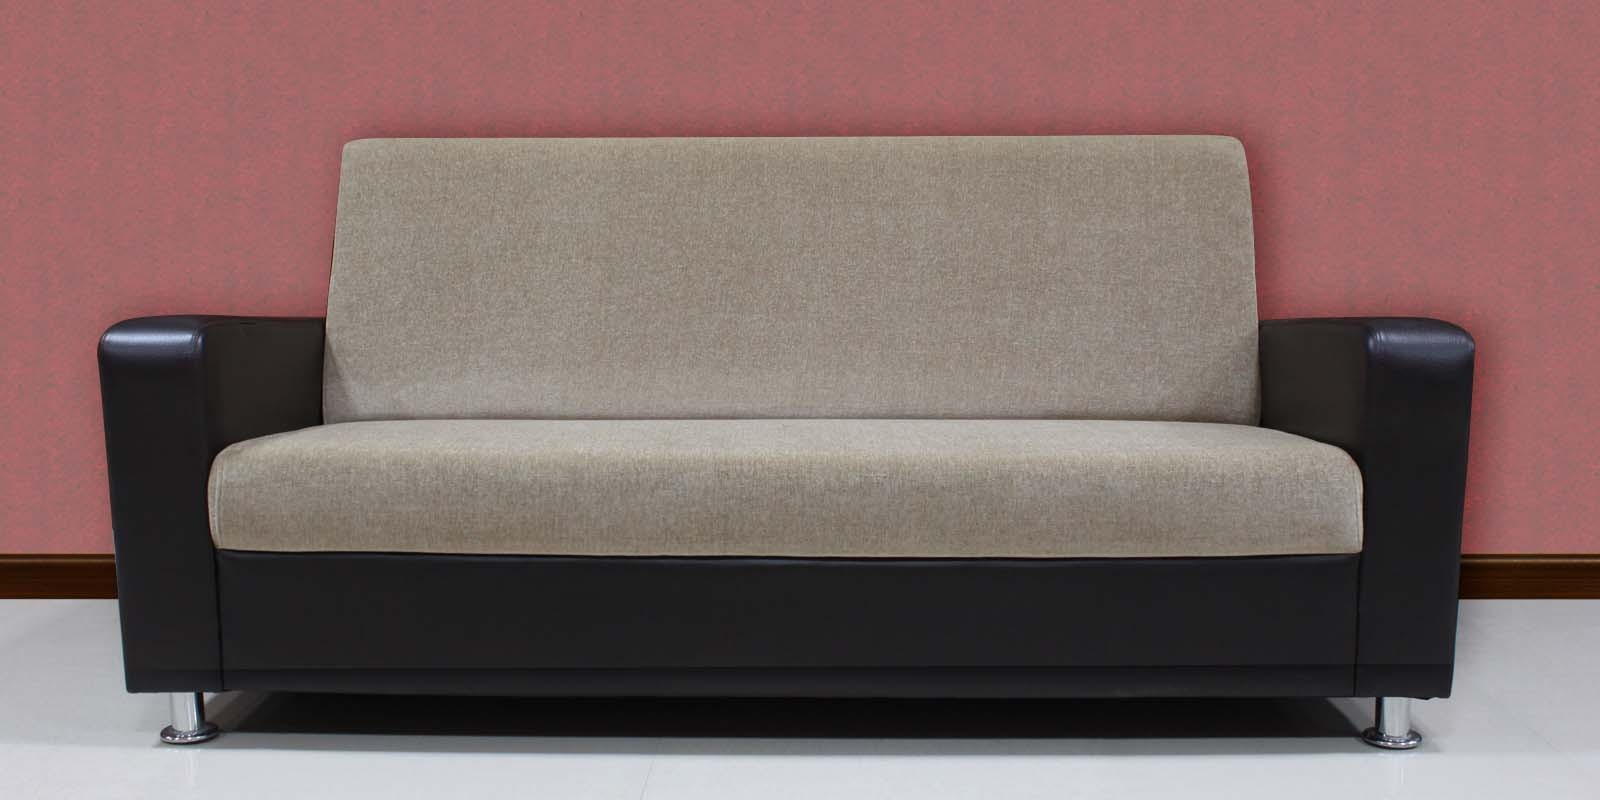New Ciara Three Seater Sofa in Dual Tone by Crystal Furnitech: (93, 131, 1476, 747)
